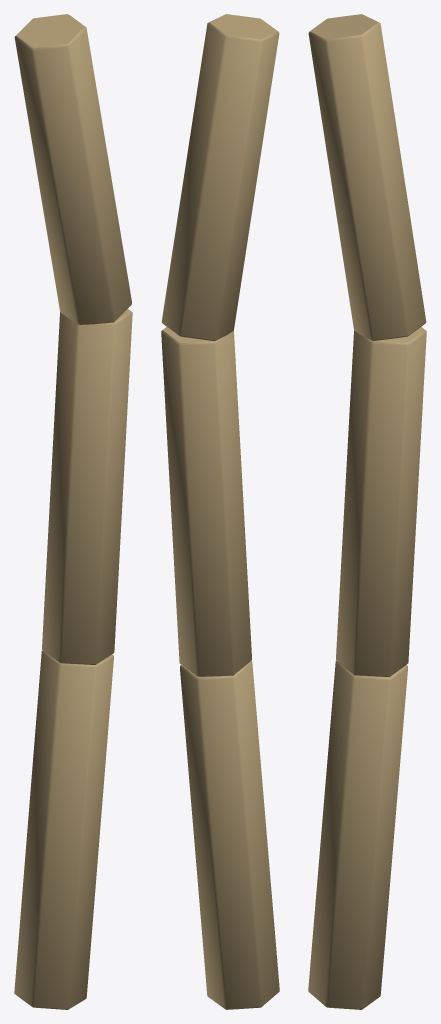
Rendered from rope_hanging_01.glb.
The picture shows the model from 3 angles, left to right: view 1: azimuth 30°, elevation 25°; view 2: azimuth 210°, elevation 25°; view 3: azimuth 330°, elevation 25°; orthographic projection.
Parts seen in each view (by area): view 1: rope_hanging_01; view 2: rope_hanging_01; view 3: rope_hanging_01.
Boxes of the visible parts, bbox=[...] form: rope_hanging_01: bbox=[14, 14, 132, 1009]; rope_hanging_01: bbox=[161, 14, 279, 1009]; rope_hanging_01: bbox=[308, 14, 426, 1009].
Bounding box in the file's own units: 0.1102 × 1.01 × 0.068.
